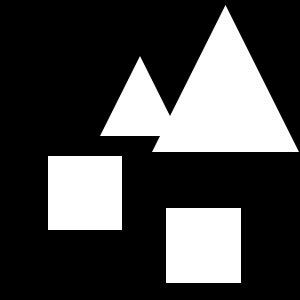circle: (166, 208, 241, 283), (48, 156, 122, 230), (94, 217, 105, 228)
triangle: (152, 5, 299, 152), (100, 56, 180, 136)
